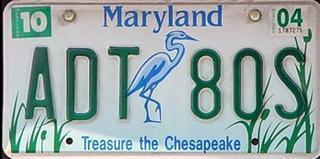placa de veiculo: (9, 2, 318, 157)
